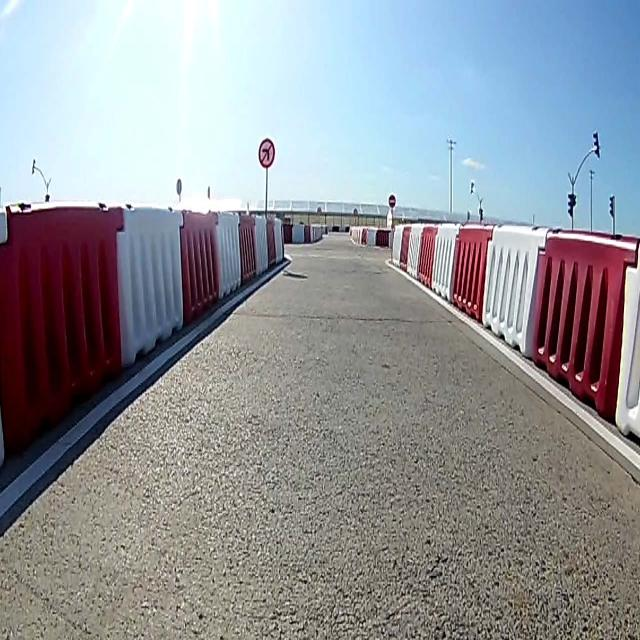girisyok: (388, 192, 396, 206)
soladonulmez: (259, 134, 273, 168)
